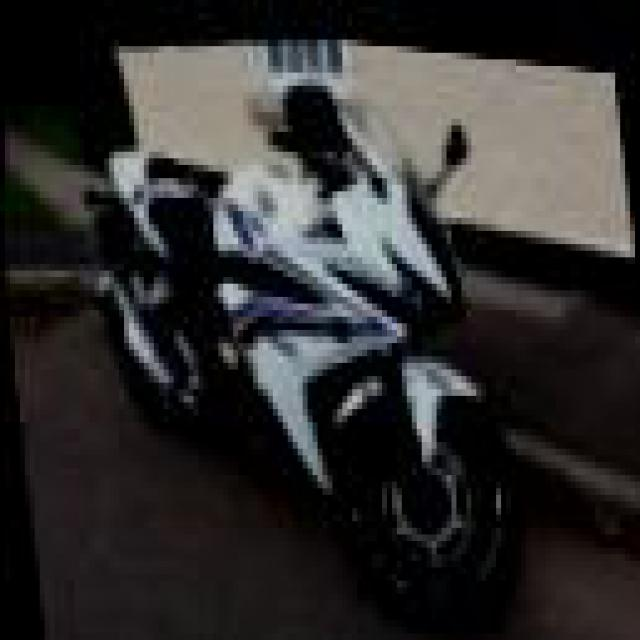CBR500R: (74, 53, 531, 633)
